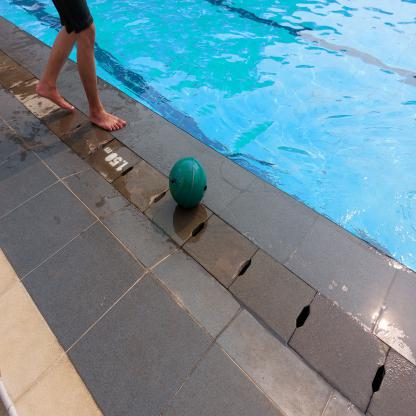green_buoy: (168, 154, 210, 210)
